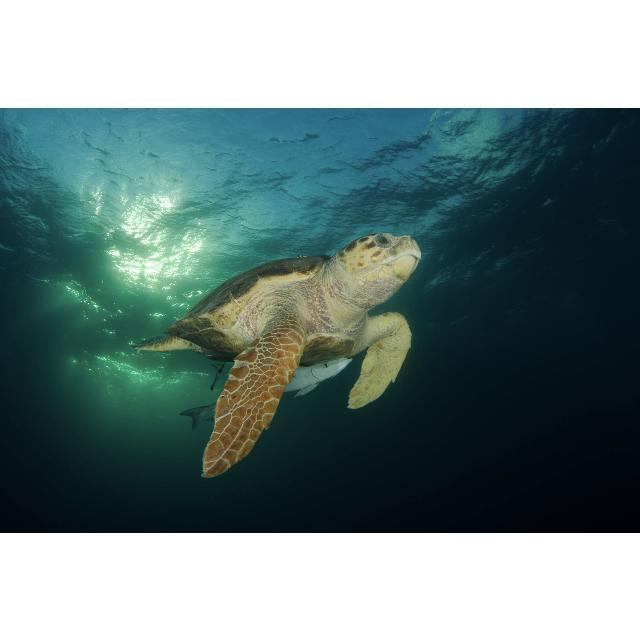turtle: (131, 233, 423, 480)
